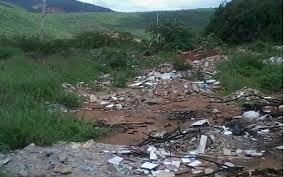rubble: (119, 117, 270, 177), (130, 54, 228, 100)
